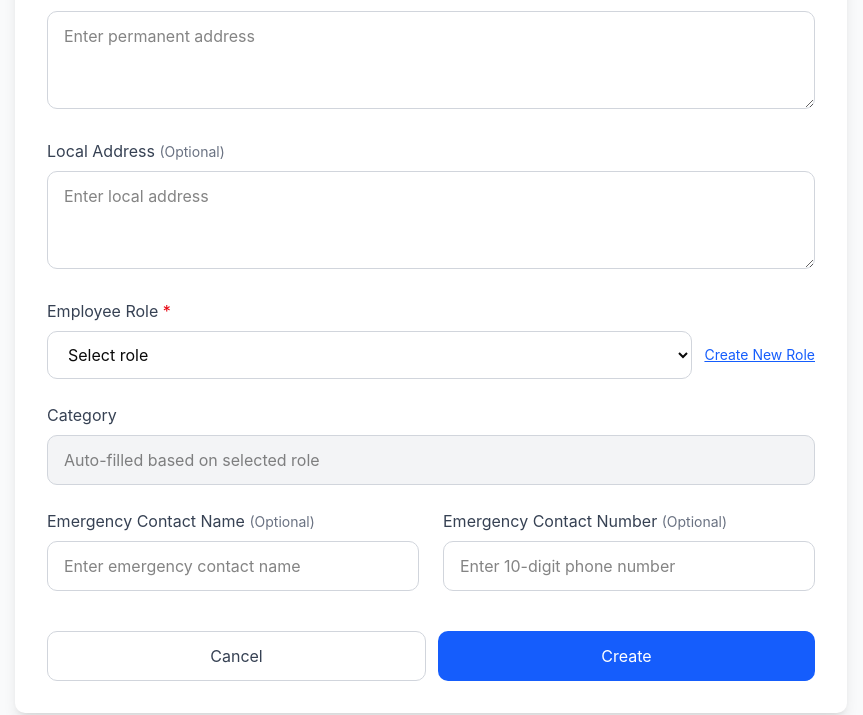
Test case: CreateEmployeeScreen › role and category › fills the category for Loader as Loadmen
(page scrolled)
Select "Loader" in the dropdown labelled "Employee Role *" at (370, 355), box x1=47 y1=331 x2=692 y2=379
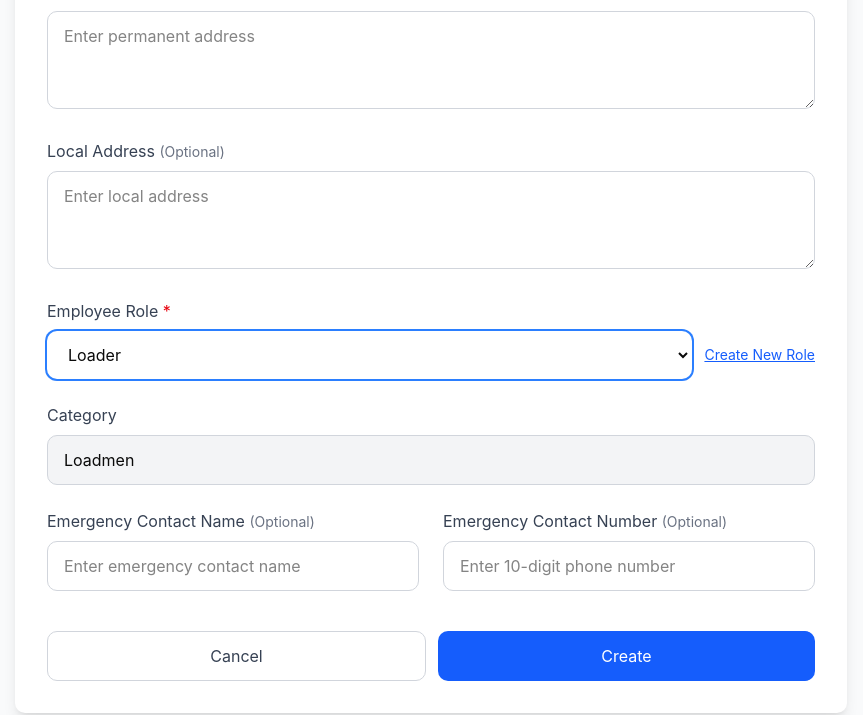
Now the field labelled "Category" holds "Loadmen", box x1=47 y1=435 x2=815 y2=485
